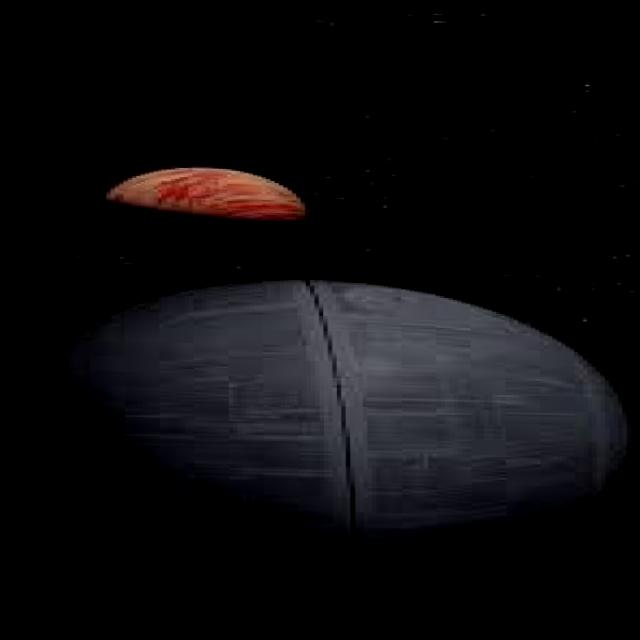deathStar: (24, 272, 626, 557)
